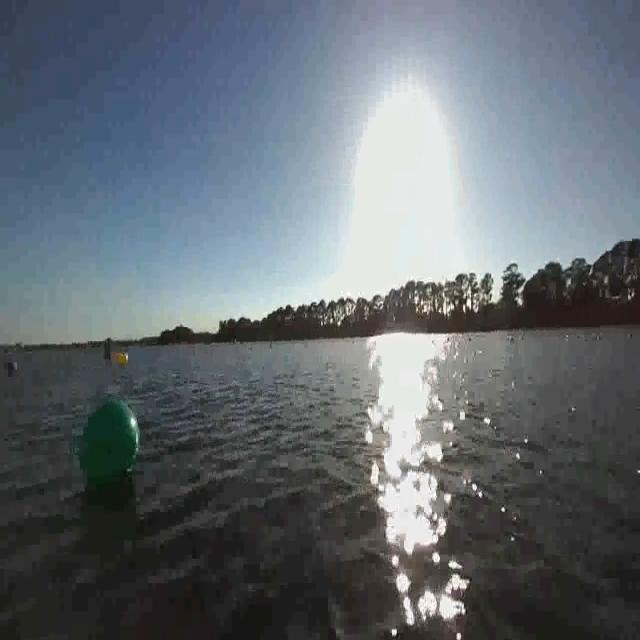green-buoy: (80, 398, 142, 489)
yellow-buoy: (114, 350, 127, 367)
